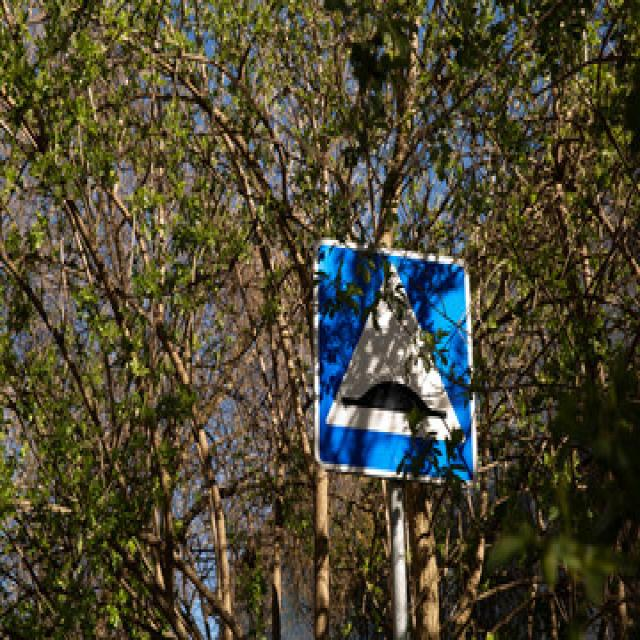hump: (315, 255, 480, 470)
